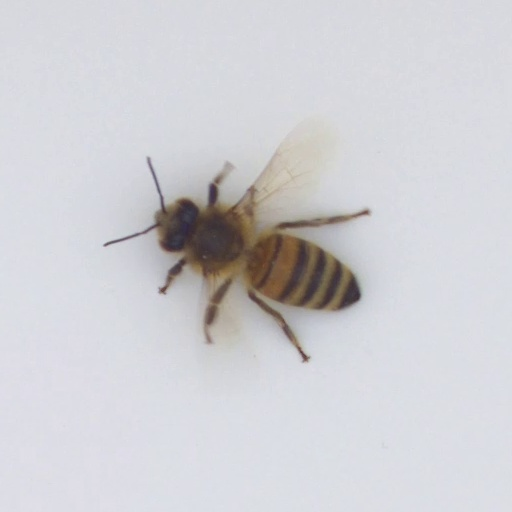Bee: (158, 192, 362, 319)
Thorax: (184, 206, 252, 272)
